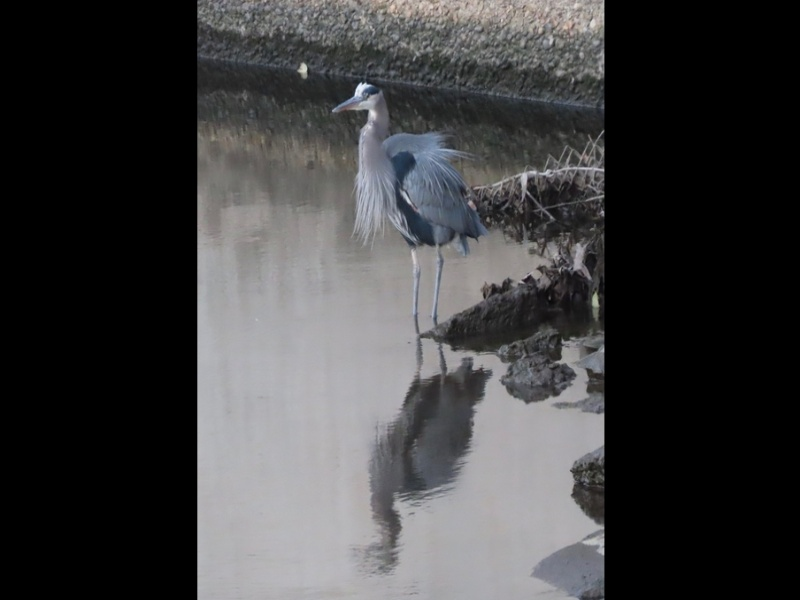heron: (332, 79, 486, 340)
